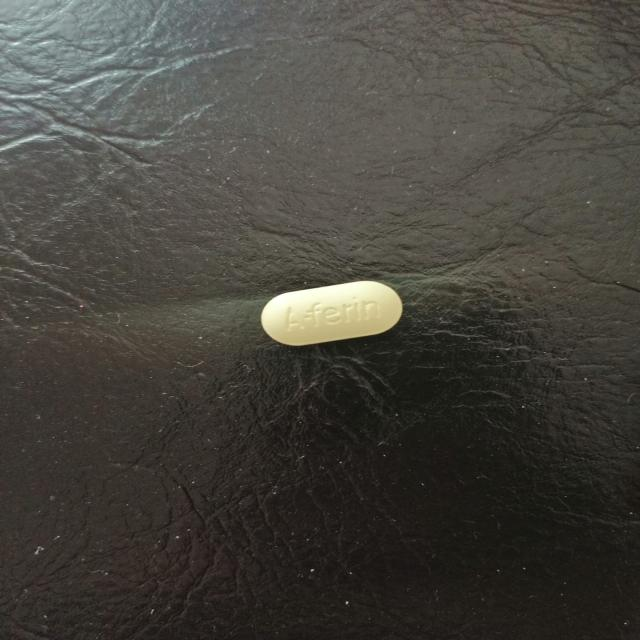pills: (246, 268, 412, 356)
